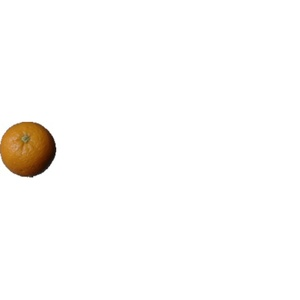laranja: (1, 118, 58, 178)
